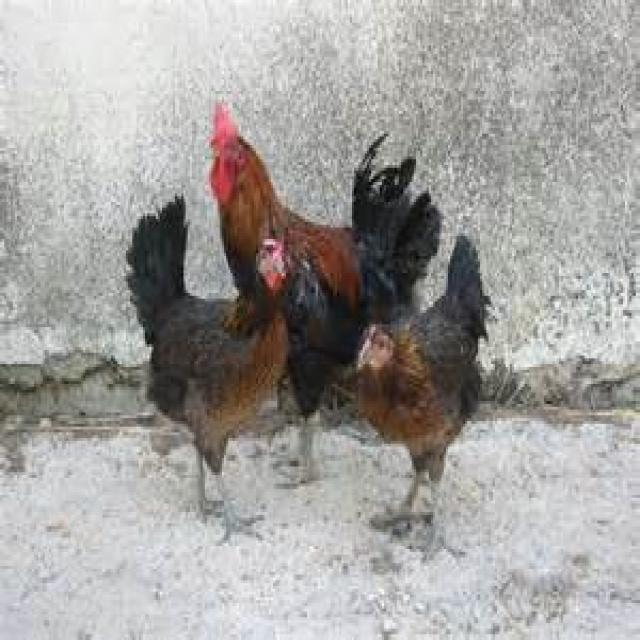chicken: (187, 85, 428, 324), (112, 218, 297, 473), (337, 284, 528, 508)
